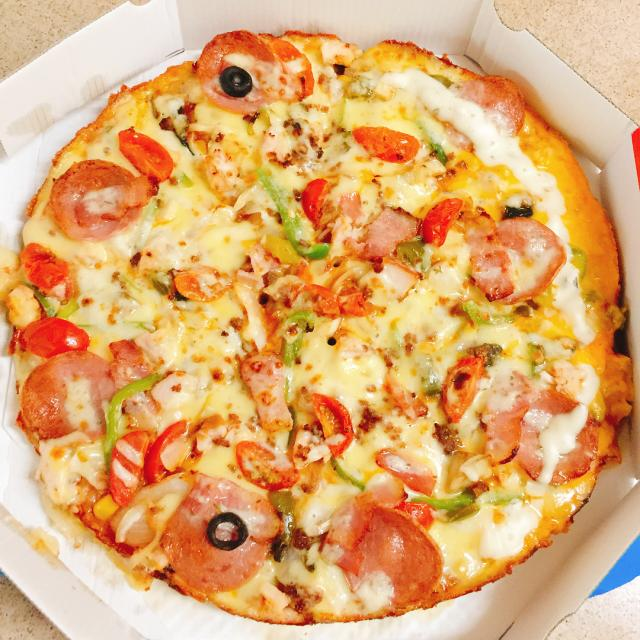black_olives: (207, 508, 250, 554), (217, 64, 255, 97), (499, 201, 534, 223)
pepperoni: (161, 469, 283, 596), (326, 492, 443, 606), (21, 348, 121, 458), (51, 157, 145, 245), (477, 216, 567, 306), (198, 31, 286, 113), (520, 392, 598, 484), (436, 75, 524, 153)
pizza: (0, 31, 635, 625)
tomatoes: (230, 432, 303, 490), (349, 117, 423, 170), (304, 384, 356, 456), (115, 125, 176, 184), (17, 318, 92, 362), (302, 278, 373, 324), (107, 433, 150, 505), (440, 355, 484, 421), (266, 38, 314, 98), (23, 240, 68, 302), (150, 412, 188, 482), (421, 192, 460, 250), (170, 269, 232, 305), (293, 172, 331, 222), (391, 496, 437, 527)
